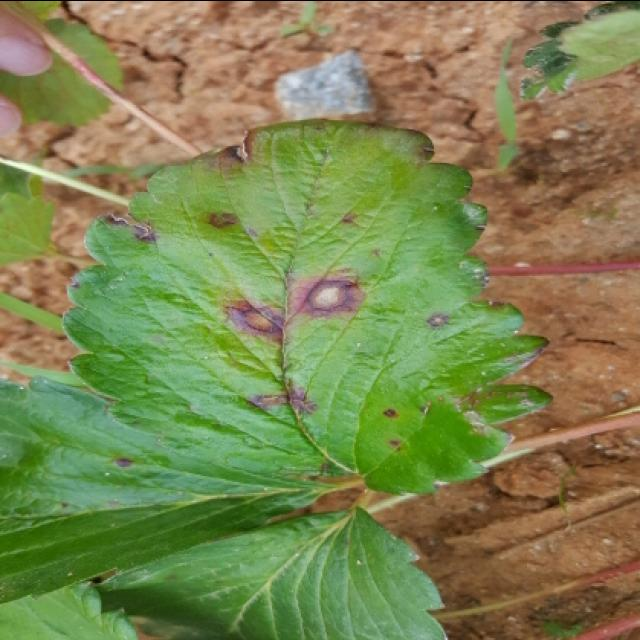Leaf Spot: (63, 119, 556, 498), (0, 372, 344, 602)
